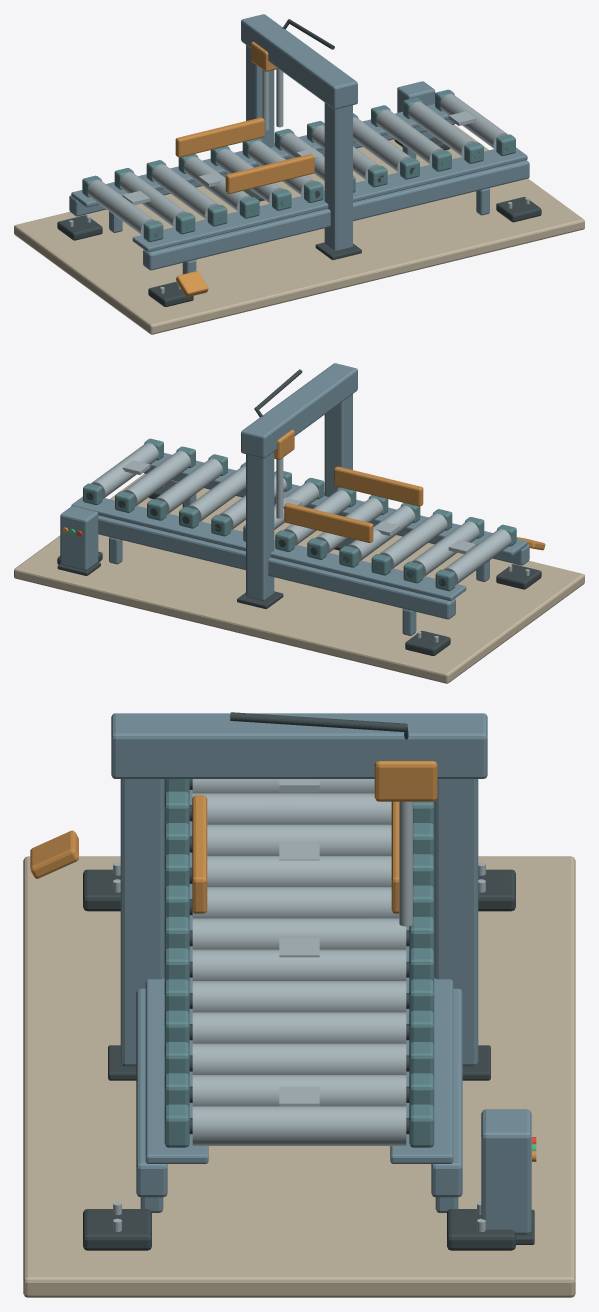
The model's file is CUT-SLAB-lod1.glb.
The picture shows the model from 3 angles, top to bottom: view 1: azimuth 30°, elevation 25°; view 2: azimuth 150°, elevation 25°; view 3: azimuth 270°, elevation 25°; orthographic projection. The views are drawn at different scales.
Parts seen in each view (by area): view 1: foundation, bed_side_1.175, bearing_seat_1.175, torch_bridge, gantry_leg_1.25, section_guide_-1, section_guide_1, gantry_leg_-1.25, bearing_seat_-1.175, support_roll_10, support_roll_0, support_roll_2 (+18 smaller); view 2: foundation, bed_side_-1.175, bearing_seat_-1.175, torch_bridge, gantry_leg_-1.25, control_cabinet, gantry_leg_1.25, section_guide_1, section_guide_-1, bearing_seat_1.175, support_roll_10, support_roll_0 (+14 smaller); view 3: foundation, torch_bridge, gantry_leg_1.25, gantry_leg_-1.25, support_roll_11, support_roll_8, support_roll_7, support_roll_9, support_roll_6, support_roll_5, control_cabinet, support_roll_10 (+40 smaller).
Part boxes in pixels (left/top/right/bottom): foundation: left=14, top=124, right=584, bottom=334; bed_side_1.175: left=143, top=160, right=529, bottom=270; bearing_seat_1.175: left=132, top=147, right=527, bottom=252; torch_bridge: left=241, top=14, right=357, bottom=109; gantry_leg_1.25: left=324, top=103, right=352, bottom=251; section_guide_-1: left=175, top=117, right=264, bottom=157; section_guide_1: left=225, top=154, right=314, bottom=193; gantry_leg_-1.25: left=246, top=45, right=274, bottom=194; bearing_seat_-1.175: left=71, top=104, right=448, bottom=207; support_roll_10: left=408, top=102, right=475, bottom=157; support_roll_0: left=87, top=180, right=155, bottom=236; support_roll_2: left=151, top=164, right=219, bottom=220; foundation: left=14, top=473, right=584, bottom=683; bed_side_-1.175: left=98, top=515, right=455, bottom=619; bearing_seat_-1.175: left=71, top=496, right=466, bottom=601; torch_bridge: left=241, top=363, right=357, bottom=458; gantry_leg_-1.25: left=246, top=452, right=274, bottom=600; control_cabinet: left=60, top=506, right=98, bottom=570; gantry_leg_1.25: left=324, top=394, right=352, bottom=543; section_guide_1: left=334, top=466, right=423, bottom=506; section_guide_-1: left=284, top=503, right=373, bottom=542; bearing_seat_1.175: left=150, top=453, right=527, bottom=556; support_roll_10: left=123, top=451, right=190, bottom=506; support_roll_0: left=443, top=529, right=511, bottom=585; foundation: left=23, top=856, right=575, bottom=1297; torch_bridge: left=111, top=713, right=487, bottom=778; gantry_leg_1.25: left=120, top=779, right=164, bottom=1066; gantry_leg_-1.25: left=434, top=779, right=478, bottom=1066; support_roll_11: left=192, top=1106, right=406, bottom=1145; support_roll_8: left=192, top=1012, right=406, bottom=1043; support_roll_7: left=192, top=981, right=406, bottom=1012; support_roll_9: left=192, top=1043, right=406, bottom=1074; support_roll_6: left=192, top=949, right=406, bottom=980; support_roll_5: left=192, top=918, right=406, bottom=949; control_cabinet: left=481, top=1109, right=531, bottom=1234; support_roll_10: left=192, top=1075, right=406, bottom=1106.
Bounding box in the file's own units: 8 × 3.46 × 4.4.
